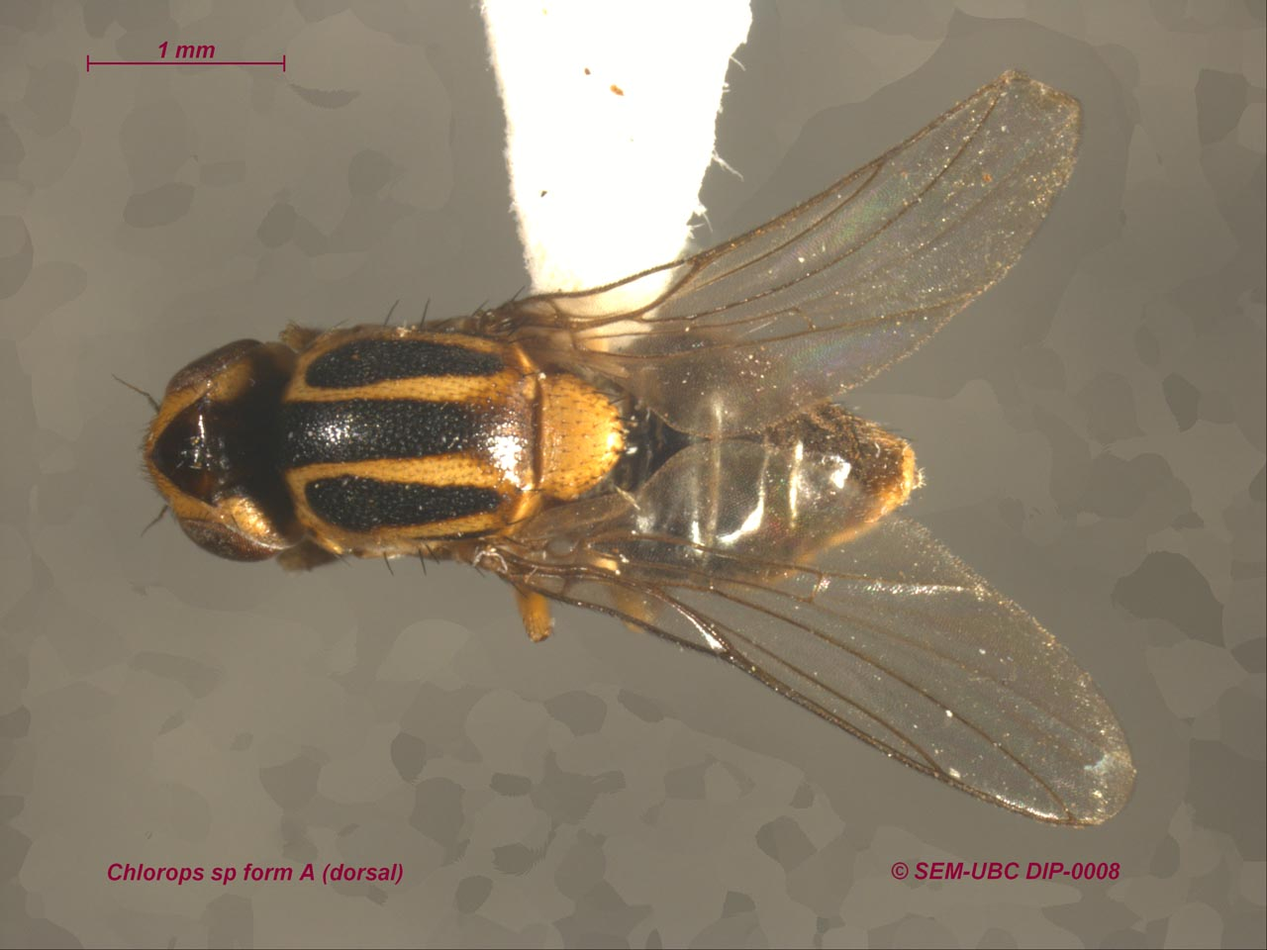Chloropidae: (111, 62, 1147, 828)
